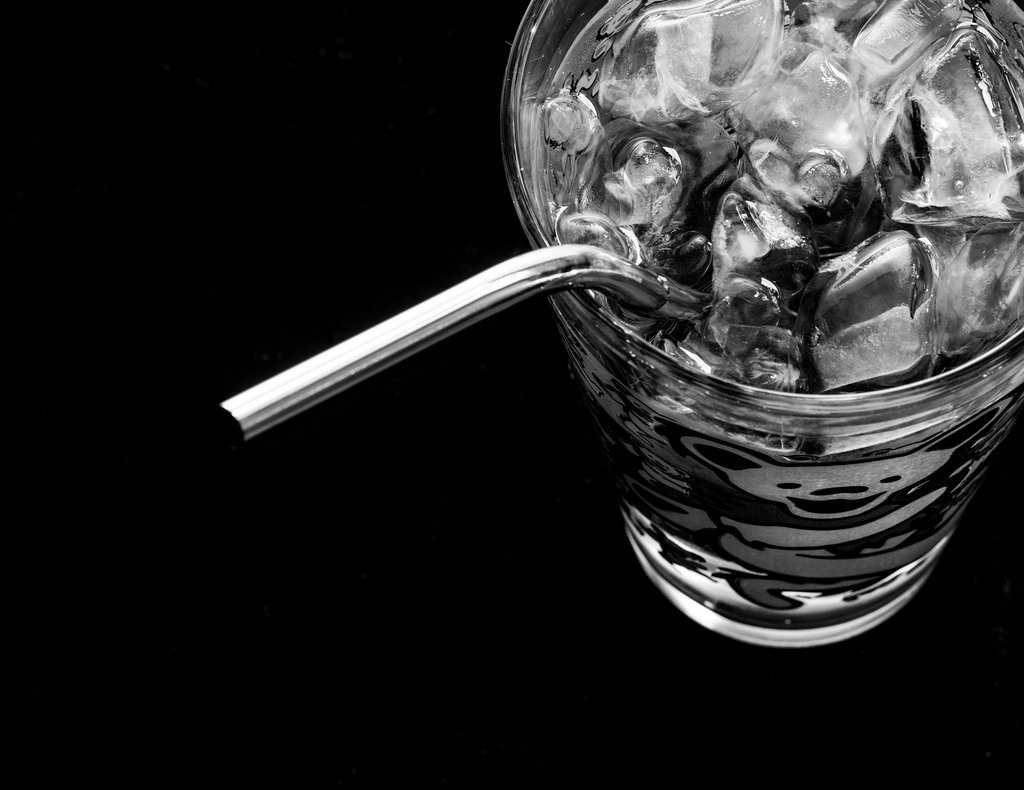glass of water: (488, 1, 1016, 674)
